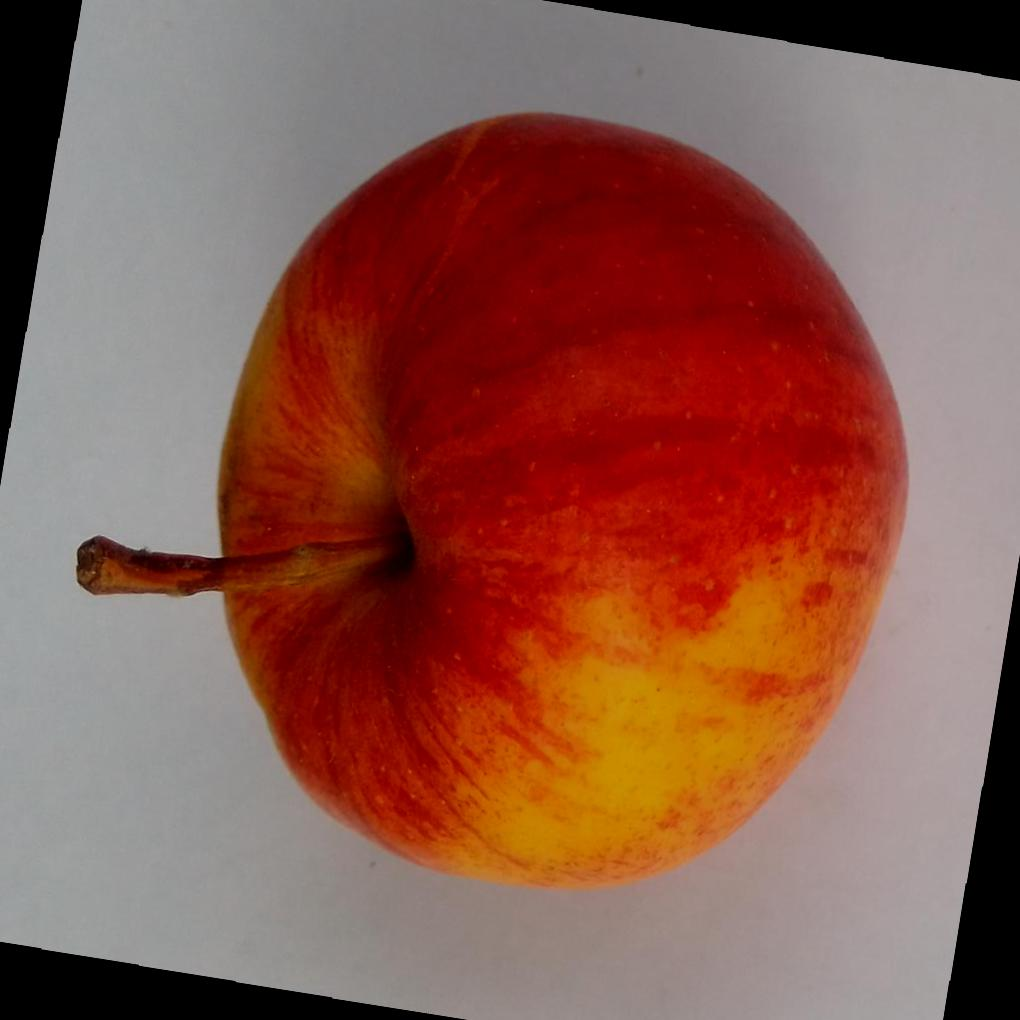FreshGuava: (76, 111, 912, 890)
